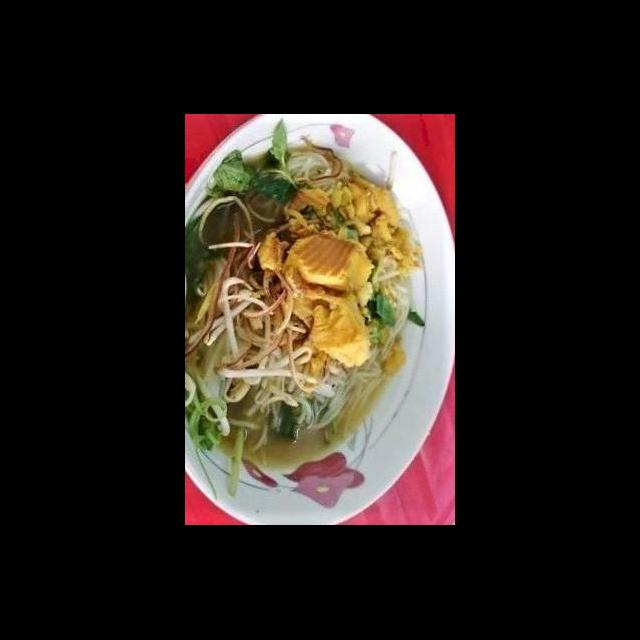bun: (291, 356, 391, 474)
bun ca: (201, 146, 455, 520)
ca: (293, 272, 376, 374), (280, 224, 383, 298)
rau ram: (199, 117, 306, 210)
